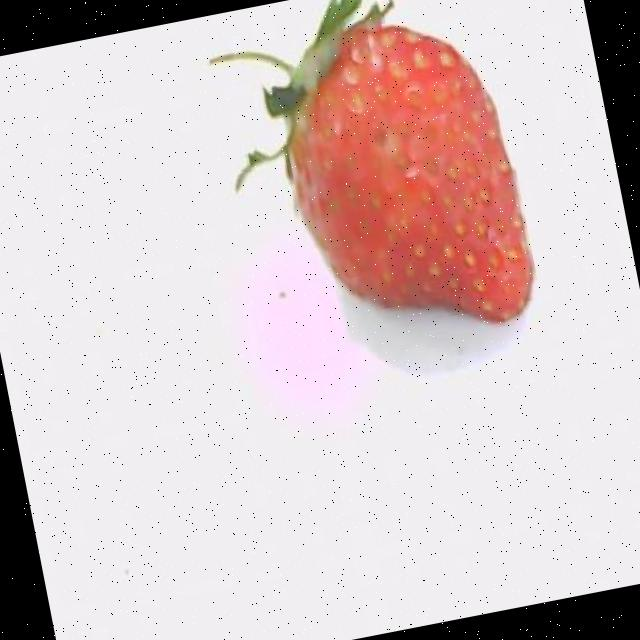strawberry: (211, 0, 533, 321)
